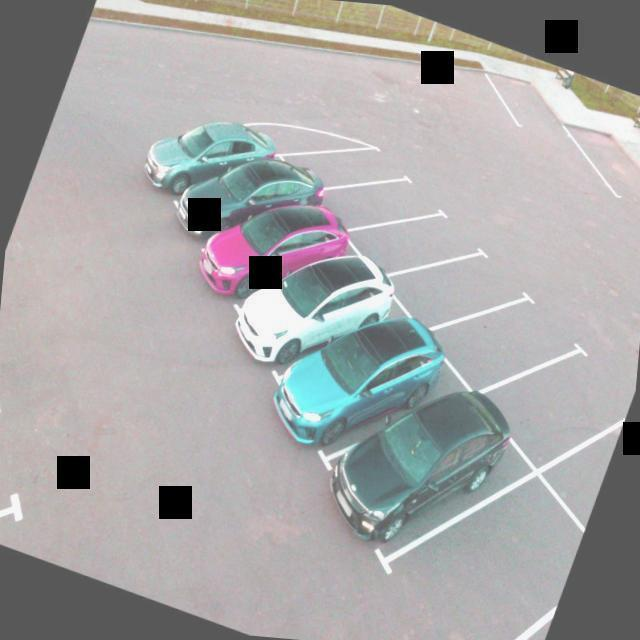space-empty: (372, 441, 598, 640), (478, 323, 640, 485), (420, 268, 592, 414), (382, 221, 537, 347), (344, 176, 489, 296), (325, 146, 435, 256), (286, 105, 399, 212)
space-occupied: (314, 352, 520, 575), (275, 287, 455, 490), (224, 222, 400, 411), (194, 168, 352, 332), (155, 128, 314, 280), (134, 100, 260, 230)
